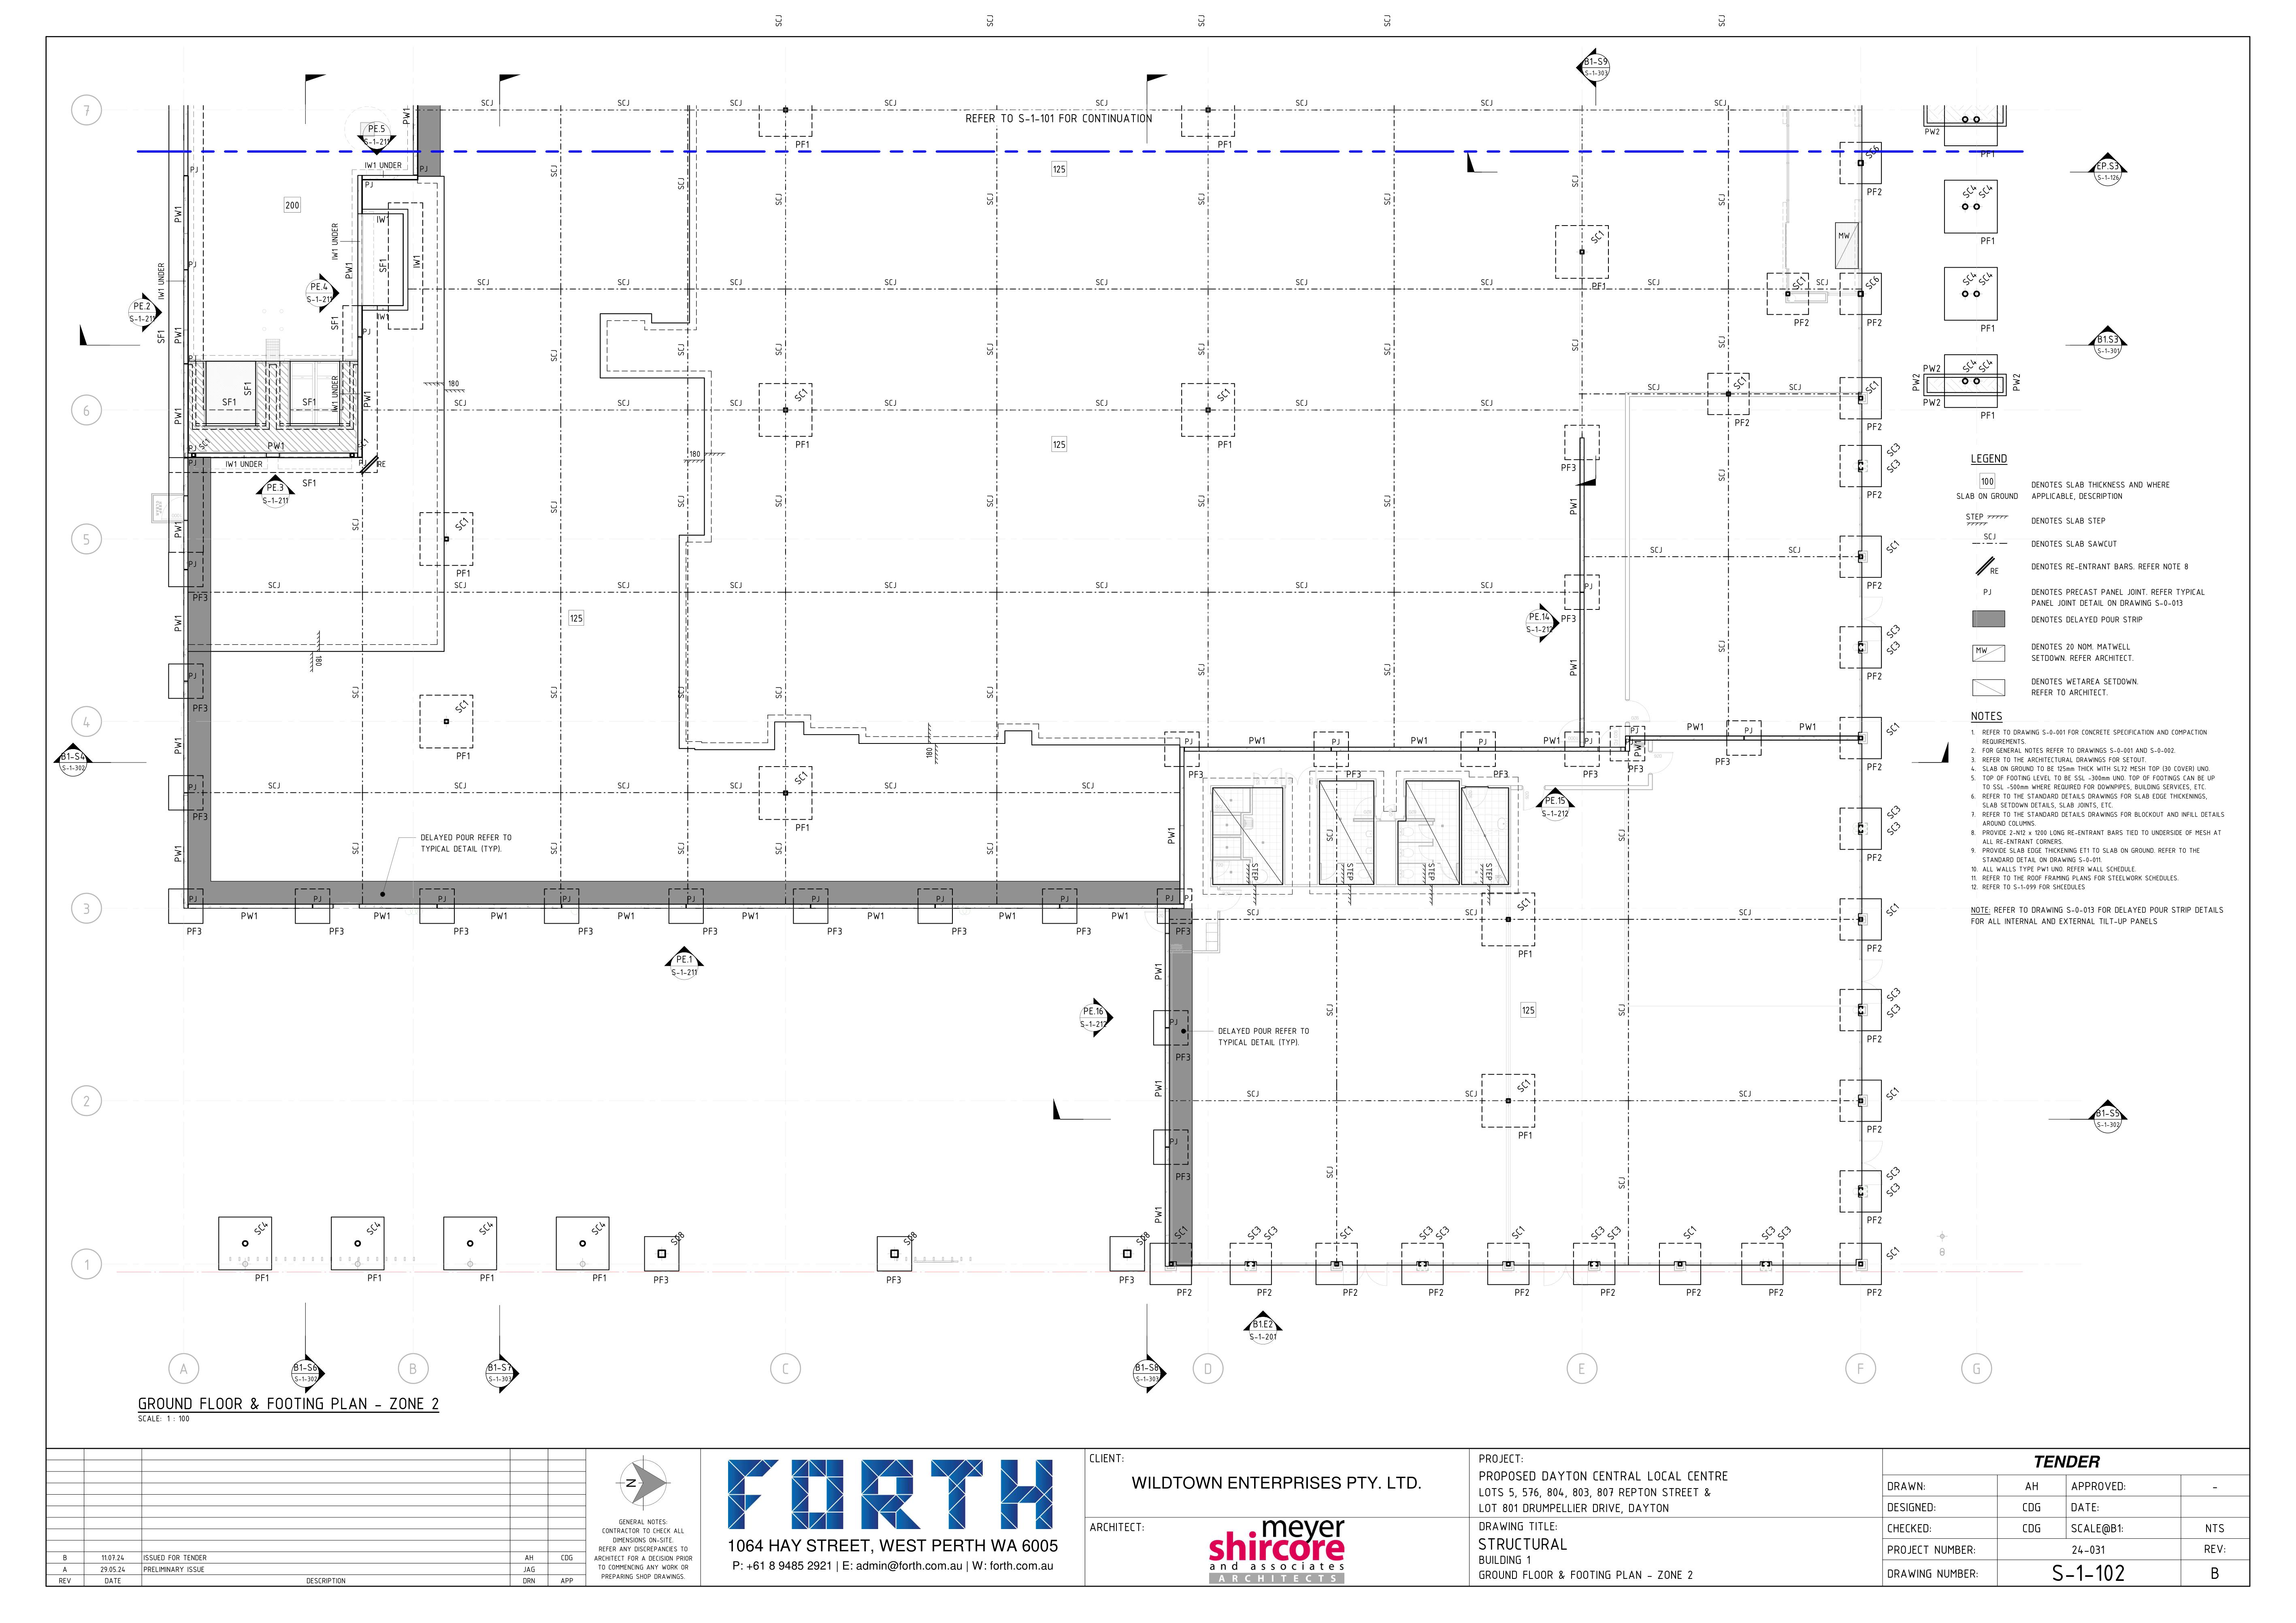IW1: (360, 156, 379, 170), (409, 249, 422, 270), (372, 211, 390, 223), (221, 458, 239, 471), (329, 400, 343, 415)
PF1: (1214, 135, 1238, 153), (1978, 235, 2004, 251), (1976, 408, 2003, 423), (1975, 148, 1999, 163), (1511, 1126, 1537, 1140), (792, 817, 815, 833), (791, 135, 815, 149), (451, 748, 476, 761), (1214, 439, 1235, 453), (792, 437, 812, 450), (455, 567, 474, 578), (1520, 947, 1537, 957)
PF2: (1864, 179, 1887, 200), (1859, 669, 1888, 683), (1864, 1212, 1885, 1230), (1864, 313, 1885, 330), (1864, 941, 1887, 957), (1590, 1286, 1616, 1298), (1864, 418, 1887, 432), (1864, 487, 1887, 501), (1862, 578, 1887, 590), (1764, 1286, 1788, 1298), (1864, 759, 1885, 773), (1864, 1122, 1885, 1136), (1173, 1286, 1196, 1298), (1683, 1289, 1709, 1300), (1734, 415, 1753, 429), (1864, 1033, 1885, 1045), (1513, 1286, 1534, 1298), (1423, 1288, 1448, 1298), (1251, 1288, 1275, 1298), (1862, 852, 1885, 862), (1867, 1286, 1887, 1298), (1794, 316, 1813, 328), (1342, 1288, 1360, 1298)
PF3: (1555, 462, 1581, 476), (1173, 1049, 1195, 1066), (186, 924, 209, 940), (321, 924, 346, 938), (1173, 1170, 1195, 1186), (1560, 610, 1581, 625), (1715, 754, 1734, 769), (574, 924, 596, 938), (450, 922, 471, 936), (701, 926, 724, 938), (1491, 766, 1509, 782), (949, 922, 968, 936), (1627, 762, 1648, 775), (188, 703, 209, 715), (191, 590, 209, 604), (1188, 768, 1207, 780), (1073, 926, 1093, 938), (827, 926, 847, 938), (1579, 769, 1600, 780), (1117, 1275, 1138, 1286), (1344, 766, 1363, 776), (1177, 926, 1191, 938), (190, 812, 209, 820)
PJ: (555, 892, 578, 908), (183, 557, 202, 571), (311, 891, 329, 905), (1182, 891, 1200, 905), (1165, 1012, 1179, 1029), (1472, 734, 1491, 747), (1054, 892, 1073, 905), (683, 892, 703, 903), (810, 891, 824, 905), (1180, 736, 1196, 748), (1330, 734, 1342, 750), (436, 892, 451, 905), (933, 891, 949, 903), (184, 458, 200, 469), (186, 443, 199, 455), (1163, 892, 1175, 905), (184, 258, 199, 269), (1627, 724, 1641, 734), (186, 896, 202, 905), (1739, 725, 1755, 734), (1166, 1135, 1179, 1145), (1585, 580, 1595, 592), (188, 163, 202, 172), (186, 785, 202, 792), (1585, 734, 1595, 745), (188, 673, 197, 680)
PW1: (864, 908, 894, 927), (1560, 652, 1579, 678), (1402, 731, 1433, 747), (365, 908, 395, 924), (167, 732, 184, 759), (167, 200, 184, 223), (169, 325, 186, 348), (1107, 910, 1135, 924), (736, 908, 768, 920), (1681, 722, 1708, 736), (1149, 957, 1163, 984), (1541, 731, 1563, 747), (1242, 734, 1270, 747), (1567, 492, 1581, 516), (167, 611, 184, 631), (1149, 1077, 1165, 1098), (1168, 822, 1180, 848), (399, 107, 415, 126), (1799, 718, 1818, 734), (1149, 1205, 1165, 1224), (239, 908, 260, 922), (172, 518, 184, 541), (618, 908, 641, 920), (1628, 739, 1646, 755), (343, 260, 357, 279), (172, 406, 184, 427), (364, 390, 376, 411), (265, 441, 286, 453), (174, 841, 184, 866), (488, 908, 509, 920), (998, 908, 1017, 920)
PW2: (2008, 371, 2027, 395), (1918, 395, 1945, 408), (1924, 123, 1943, 139), (1924, 362, 1945, 376), (1910, 374, 1924, 395)
SC1: (1507, 1219, 1525, 1242), (1885, 720, 1904, 739), (1885, 536, 1903, 557), (451, 694, 473, 711), (1790, 272, 1808, 290), (1885, 1087, 1903, 1105), (1516, 894, 1534, 912), (1216, 383, 1231, 402), (794, 385, 810, 404), (1885, 1245, 1903, 1261), (794, 769, 812, 785), (1513, 1078, 1532, 1093), (1337, 1224, 1356, 1238), (199, 437, 214, 453), (1173, 1224, 1189, 1240), (1887, 901, 1901, 917), (1730, 378, 1748, 390), (1866, 379, 1880, 393), (1592, 232, 1607, 244), (455, 516, 471, 529), (1683, 1228, 1697, 1240), (358, 439, 369, 448)
SC3: (1880, 1180, 1904, 1198), (1432, 1223, 1451, 1244), (1881, 1163, 1906, 1179), (1586, 1223, 1606, 1242), (1881, 984, 1904, 999), (1778, 1224, 1795, 1242), (1885, 458, 1904, 474), (1885, 820, 1904, 834), (1881, 443, 1903, 455), (1885, 803, 1901, 819), (1885, 1003, 1901, 1019), (1885, 641, 1903, 655), (1418, 1223, 1432, 1240), (1757, 1224, 1774, 1238), (1265, 1224, 1279, 1240), (1883, 625, 1901, 638), (1611, 1228, 1623, 1242), (1249, 1224, 1261, 1237)
SC4: (1982, 269, 1997, 290), (1980, 183, 1994, 202), (1982, 357, 1996, 376), (1959, 270, 1976, 285), (1964, 183, 1978, 198), (1960, 358, 1976, 372)
SC6: (1862, 144, 1881, 162), (1867, 274, 1881, 292)
SC8: (1131, 1233, 1151, 1245)
SF1: (239, 378, 256, 399), (376, 255, 390, 274), (218, 399, 239, 411), (299, 476, 320, 488), (327, 314, 343, 330), (155, 327, 167, 344), (302, 395, 316, 409)
